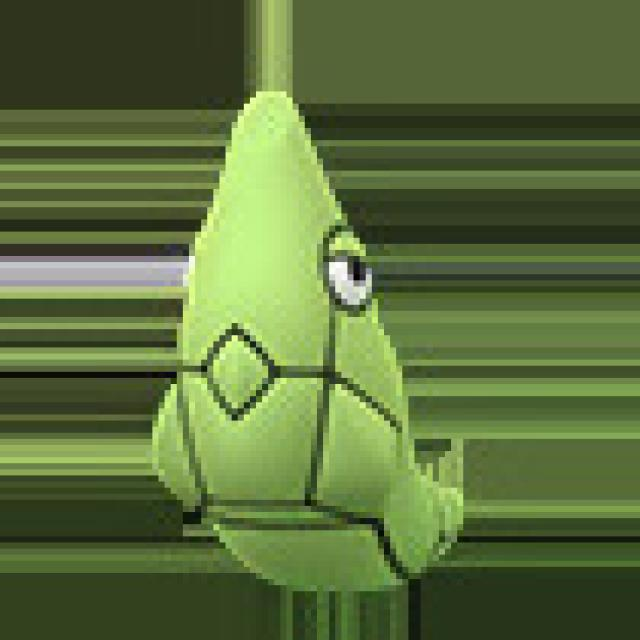Metapod: (149, 85, 461, 598)
